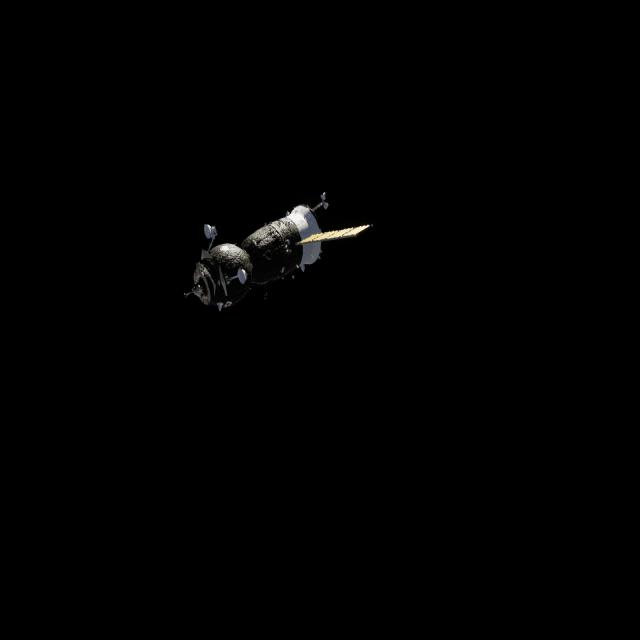Satellites revolving around earth: (182, 190, 374, 316)
